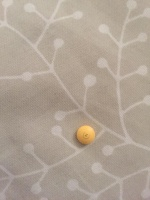Nurofen: (75, 124, 96, 146)
